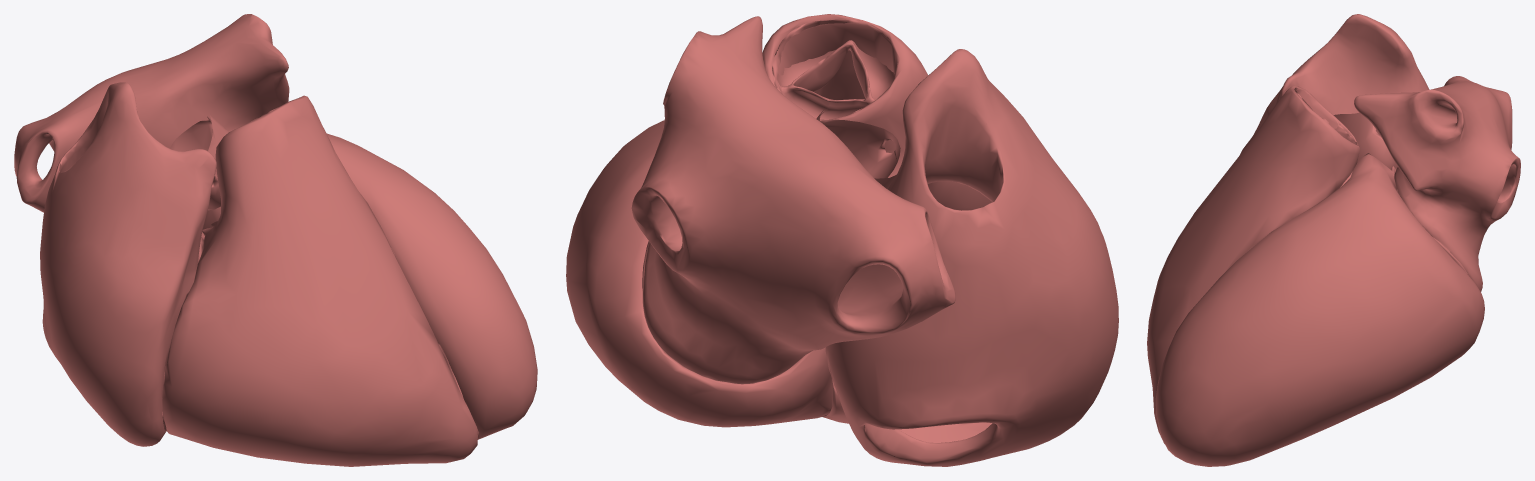
Rendered from vh_m_heart-20.glb.
3 renders of one model, left to right at view 1: azimuth 30°, elevation 25°; view 2: azimuth 150°, elevation 25°; view 3: azimuth 270°, elevation 25°, orthographic. The views are drawn at different scales.
Parts seen in each view (by area): view 1: VH_M_heart_right_ventricle, VH_M_right_cardiac_atrium, VH_M_heart_left_ventricle, VH_M_left_cardiac_atrium, VH_M_aortic_valve; view 2: VH_M_left_cardiac_atrium, VH_M_right_cardiac_atrium, VH_M_heart_left_ventricle, VH_M_heart_right_ventricle, VH_M_pulmonary_valve, VH_M_aortic_valve; view 3: VH_M_heart_left_ventricle, VH_M_heart_right_ventricle, VH_M_left_cardiac_atrium, VH_M_right_cardiac_atrium, VH_M_aortic_valve.
Boxes of the visible parts, bbox=[...] form: VH_M_heart_right_ventricle: bbox=[162, 95, 477, 466]; VH_M_right_cardiac_atrium: bbox=[40, 82, 216, 446]; VH_M_heart_left_ventricle: bbox=[202, 133, 537, 439]; VH_M_left_cardiac_atrium: bbox=[14, 14, 289, 212]; VH_M_aortic_valve: bbox=[170, 114, 229, 210]; VH_M_left_cardiac_atrium: bbox=[631, 16, 955, 384]; VH_M_right_cardiac_atrium: bbox=[825, 49, 1118, 466]; VH_M_heart_left_ventricle: bbox=[566, 120, 833, 427]; VH_M_heart_right_ventricle: bbox=[762, 14, 928, 423]; VH_M_pulmonary_valve: bbox=[772, 19, 897, 119]; VH_M_aortic_valve: bbox=[816, 108, 900, 188]; VH_M_heart_left_ventricle: bbox=[1155, 153, 1484, 466]; VH_M_heart_right_ventricle: bbox=[1147, 86, 1359, 443]; VH_M_left_cardiac_atrium: bbox=[1354, 76, 1520, 291]; VH_M_right_cardiac_atrium: bbox=[1240, 14, 1429, 154]; VH_M_aortic_valve: bbox=[1334, 112, 1397, 169].
Bounding box in the file's own units: 0.1243 × 0.1054 × 0.1053.
